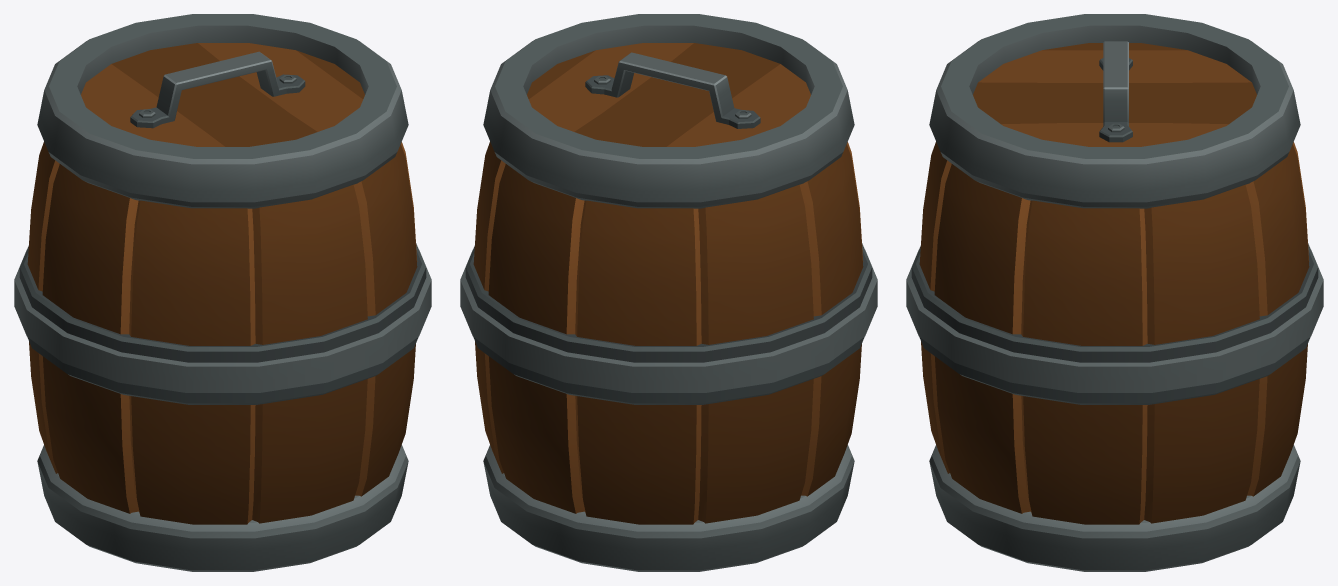
The model's file is Barrel-2.fbx.
3 views of the same model, side by side, from view 1: azimuth 30°, elevation 25°; view 2: azimuth 150°, elevation 25°; view 3: azimuth 270°, elevation 25° (orthographic).
Parts seen in each view (by area): view 1: Barrel-2; view 2: Barrel-2; view 3: Barrel-2.
Boxes of the visible parts, x1,y1,x2,y2 form: Barrel-2: (14, 14, 431, 571); Barrel-2: (460, 14, 877, 571); Barrel-2: (906, 14, 1323, 571).
Bounding box in the file's own units: 123 × 142 × 124.
